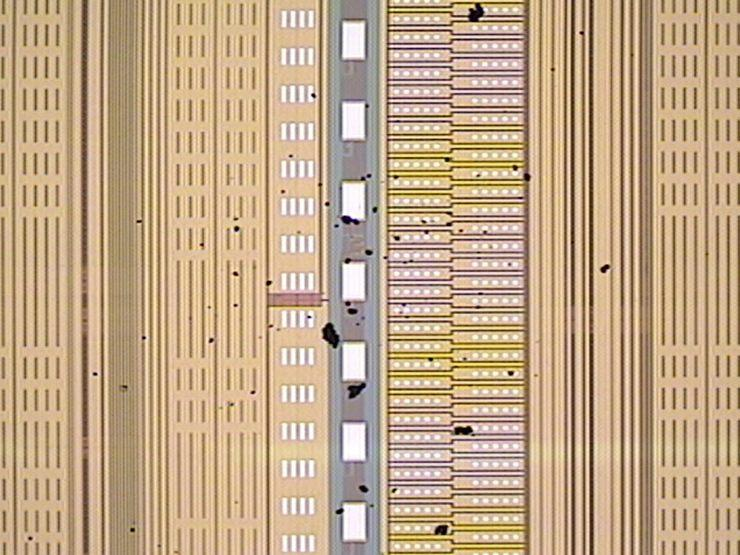PO CONTAMINATION: (23, 1, 717, 555)
